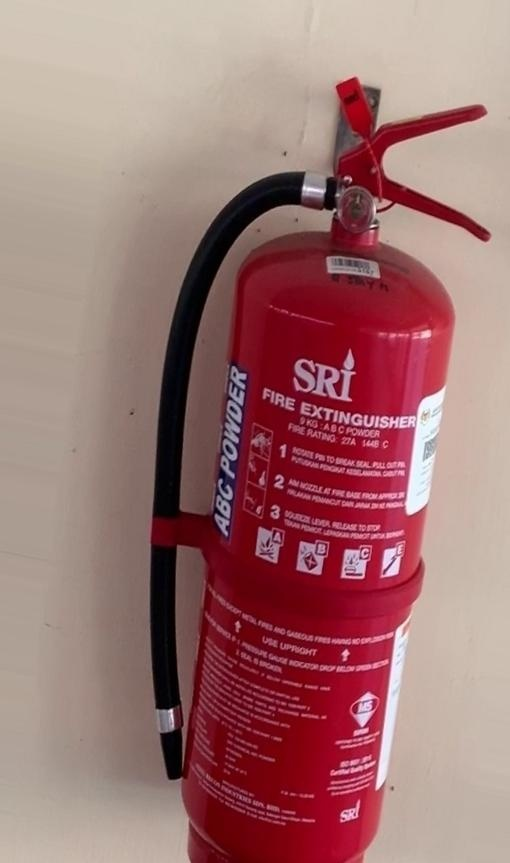fire_extinguisher: (149, 76, 492, 862)
